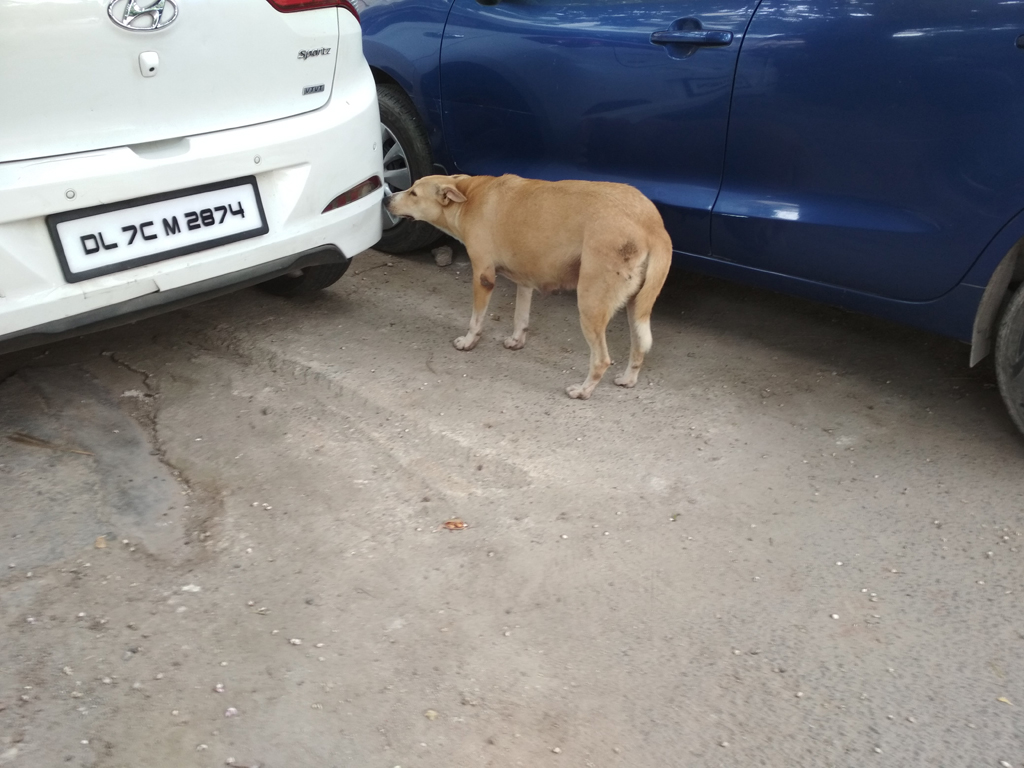dog: (382, 174, 675, 398)
